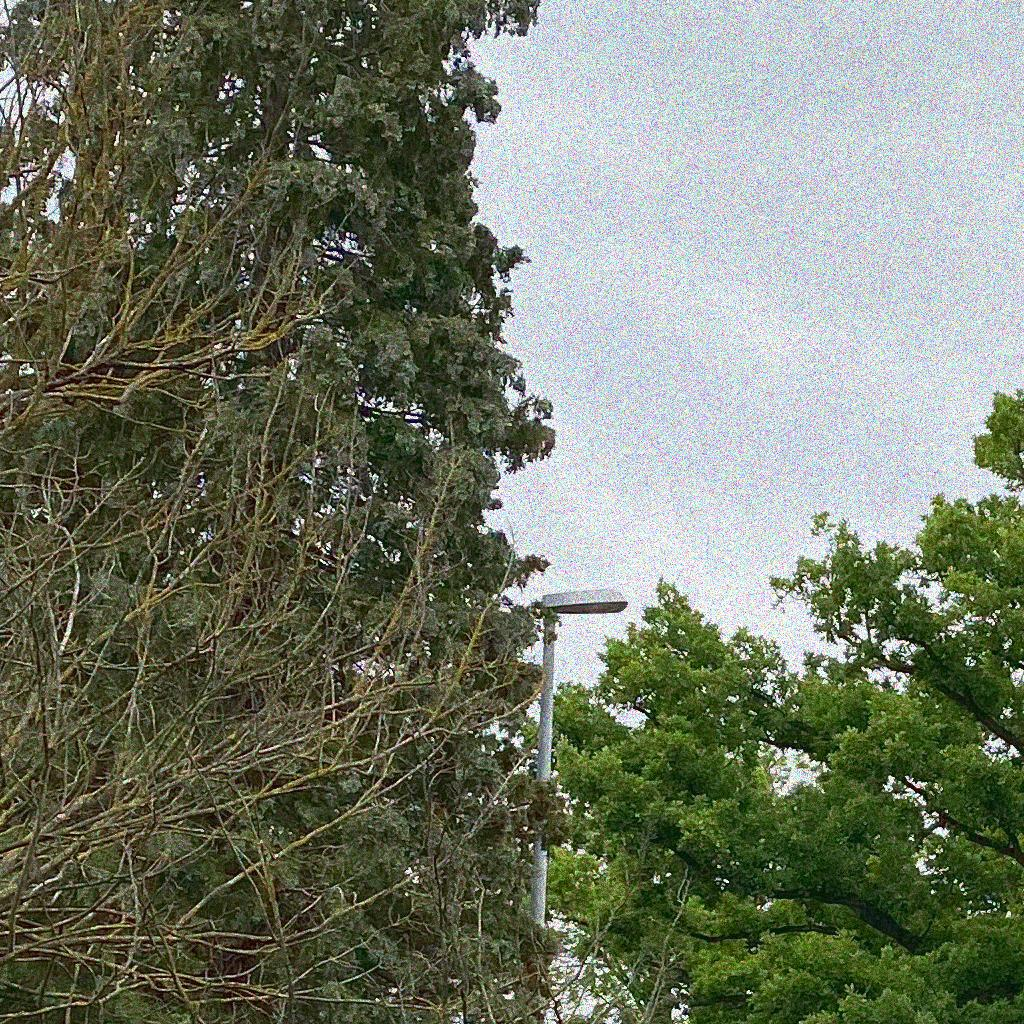tree: (1, 1, 691, 1024), (1, 1, 562, 1023), (517, 388, 1024, 1024)
